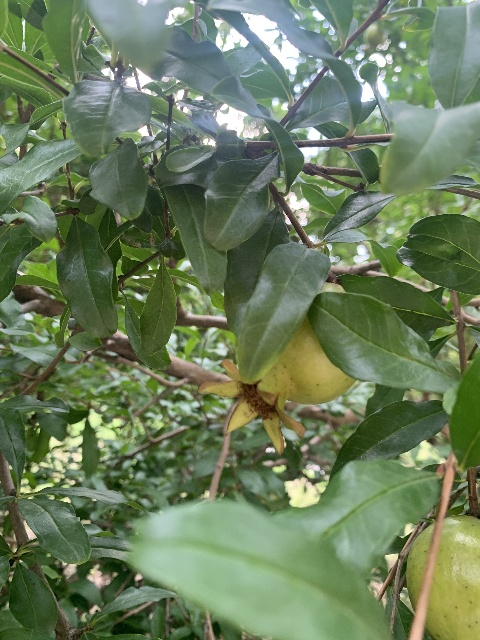mid-growth: (197, 282, 358, 455)
